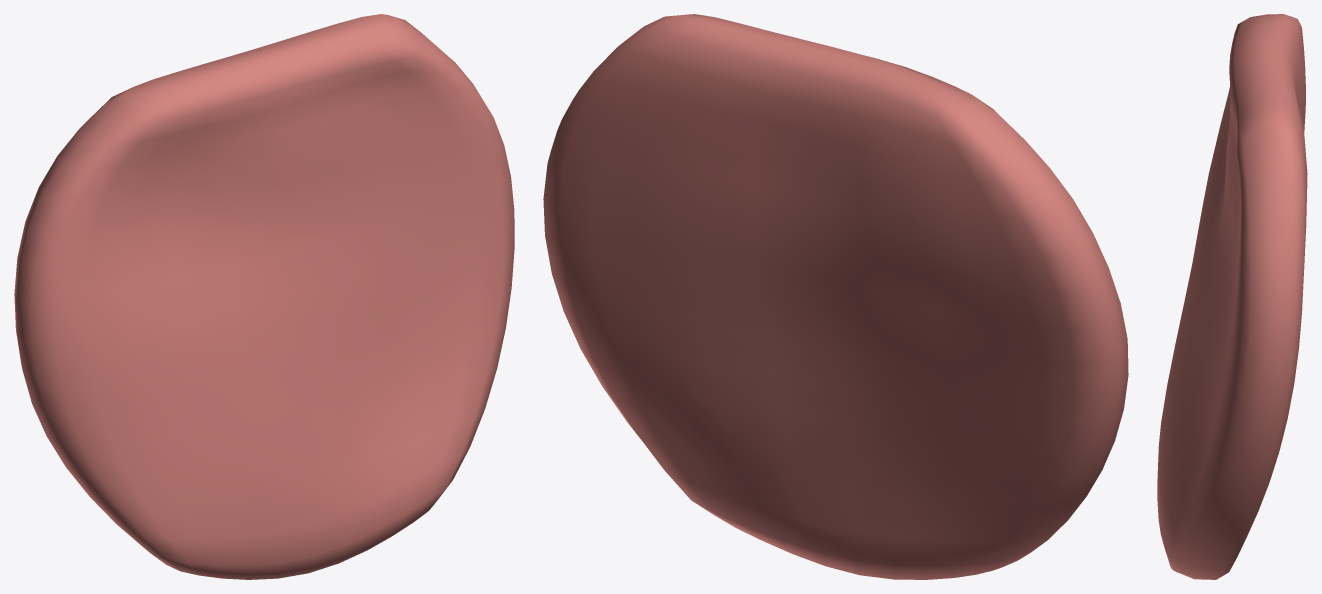
3 views of the same model, side by side, from view 1: azimuth 30°, elevation 25°; view 2: azimuth 150°, elevation 25°; view 3: azimuth 270°, elevation 25° (orthographic). The views are drawn at different scales.
Visible parts, largest first — view 1: ZA_9eba10523786c972; view 2: ZA_9eba10523786c972; view 3: ZA_9eba10523786c972.
Part boxes in pixels (bbox=[...]): ZA_9eba10523786c972: bbox=[14, 14, 514, 579]; ZA_9eba10523786c972: bbox=[543, 14, 1128, 579]; ZA_9eba10523786c972: bbox=[1157, 14, 1307, 579].
Size of the model in its own units: 0.0173 by 0.0165 by 0.00453.
